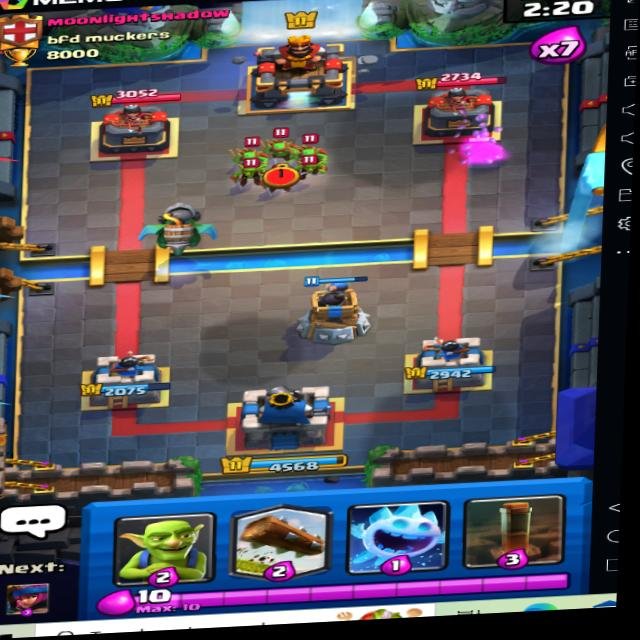goblin: (225, 161, 268, 191), (297, 157, 337, 183)
spear-goblin: (229, 134, 271, 170), (258, 127, 300, 157), (292, 131, 331, 163)
